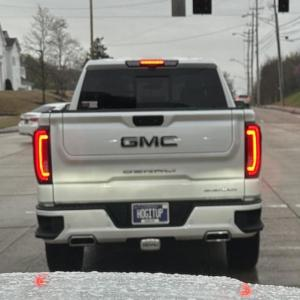Plate: (131, 202, 170, 225)
